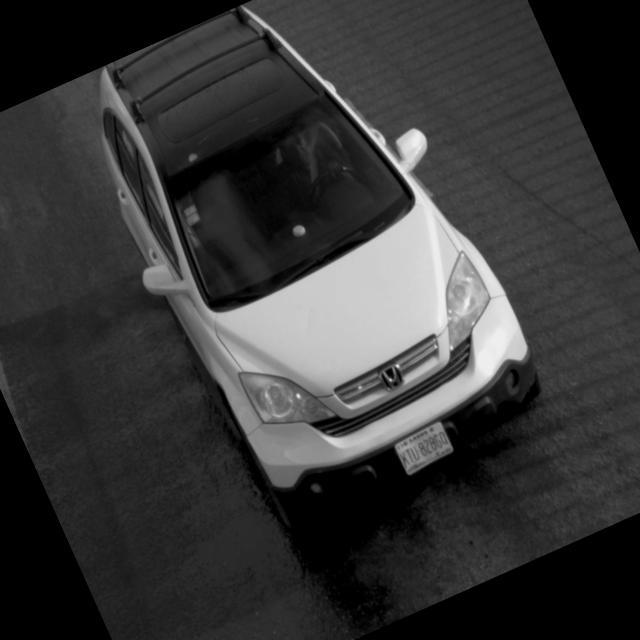windshield: (160, 89, 420, 315)
